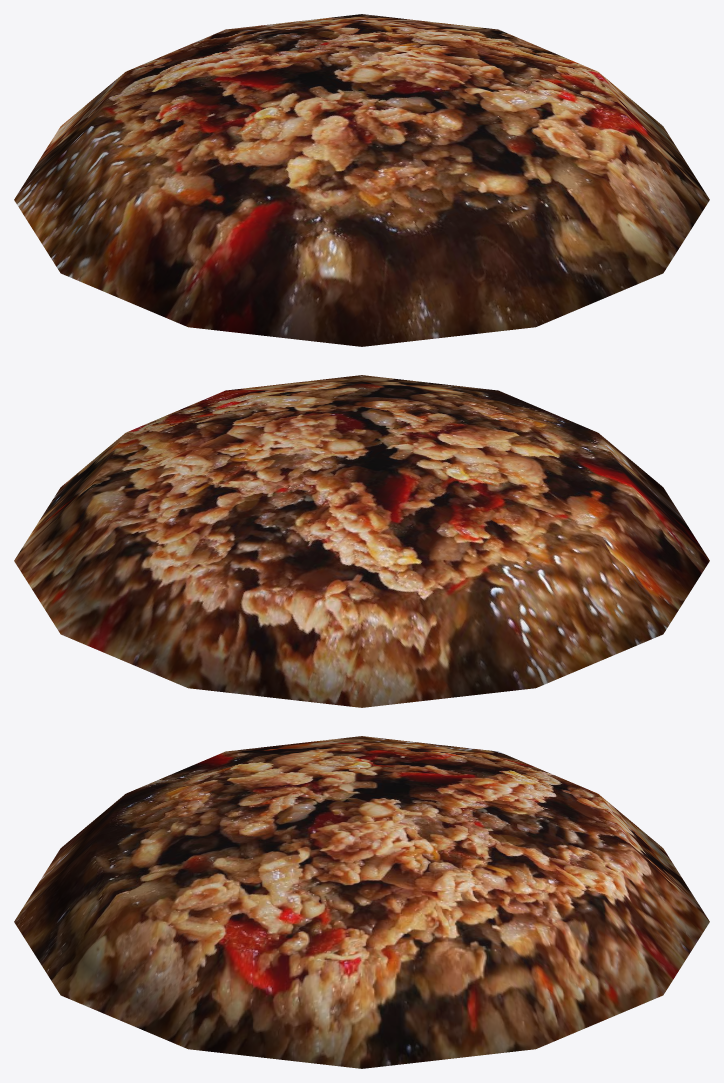
The model's file is SM_StirFried.fbx.
The picture shows the model from 3 angles, top to bottom: view 1: azimuth 30°, elevation 25°; view 2: azimuth 150°, elevation 25°; view 3: azimuth 270°, elevation 25°; orthographic projection.
Visible parts, largest first — view 1: Cylinder; view 2: Cylinder; view 3: Cylinder.
Boxes of the visible parts, x1,y1,x2,y2 form: Cylinder: (14,14,709,346); Cylinder: (14,375,709,707); Cylinder: (14,736,709,1068).
Bounding box in the file's own units: 200 × 37.1 × 200.
